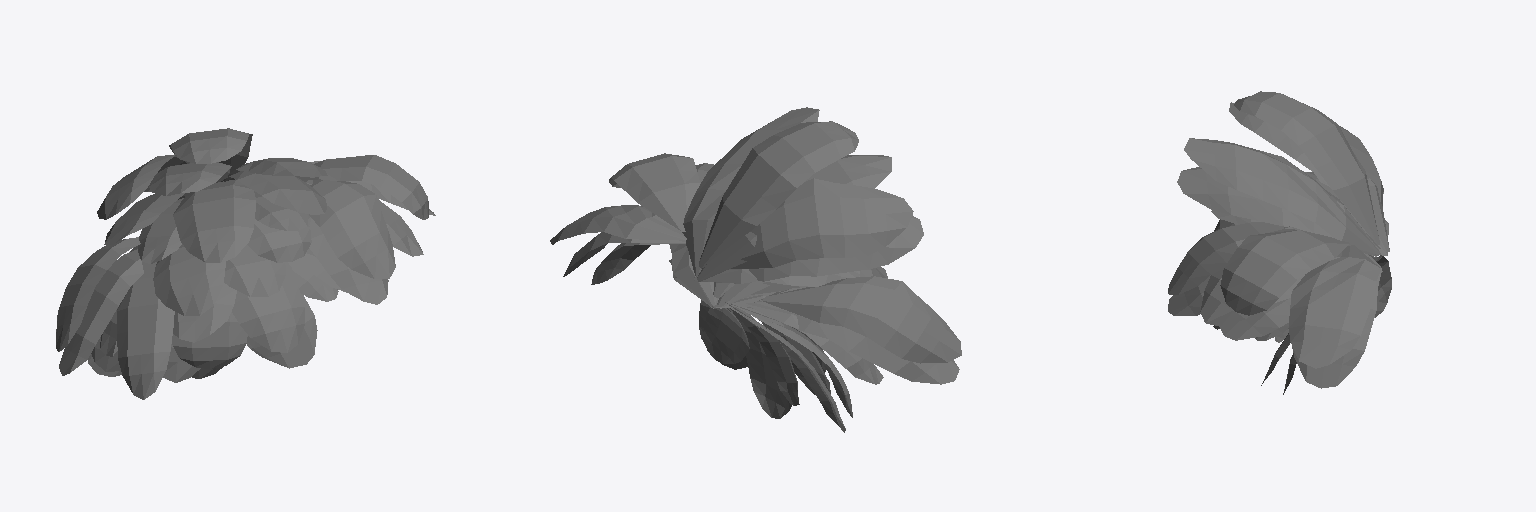
File: Plant_fernicus_01.obj
The picture shows the model from 3 angles: view 1: azimuth 30°, elevation 25°; view 2: azimuth 150°, elevation 25°; view 3: azimuth 270°, elevation 25°; orthographic projection.
Visible parts, largest first — view 1: pPlane22; view 2: pPlane22; view 3: pPlane22.
Boxes of the visible parts, x1=… form: pPlane22: x1=56, y1=128, x2=435, y2=399; pPlane22: x1=550, y1=107, x2=961, y2=432; pPlane22: x1=1168, y1=91, x2=1391, y2=394.
Size of the model in its own units: 18.79 by 12.44 by 9.35.